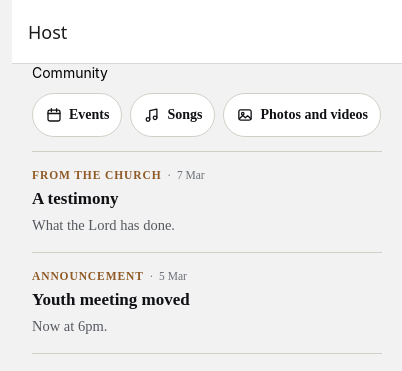
Test case: what the church has said › opens an announcement on its own detail, with the record it holds
Click the button with test id "announcement-a1": (88, 276) [32,253,382,354]
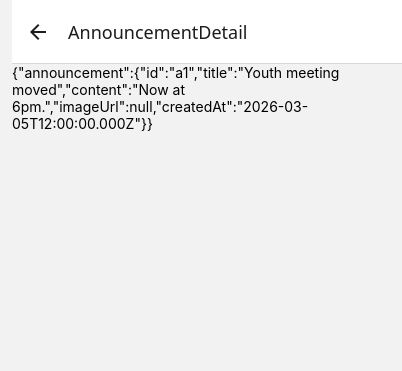
Check: the text with test id "announcement-detail-stub" is shown, box [12,64,343,132]
